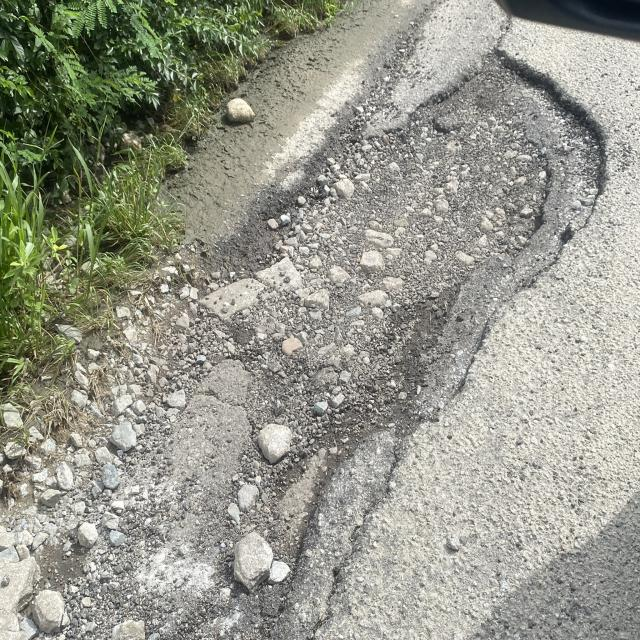pothole: (398, 2, 630, 522)
